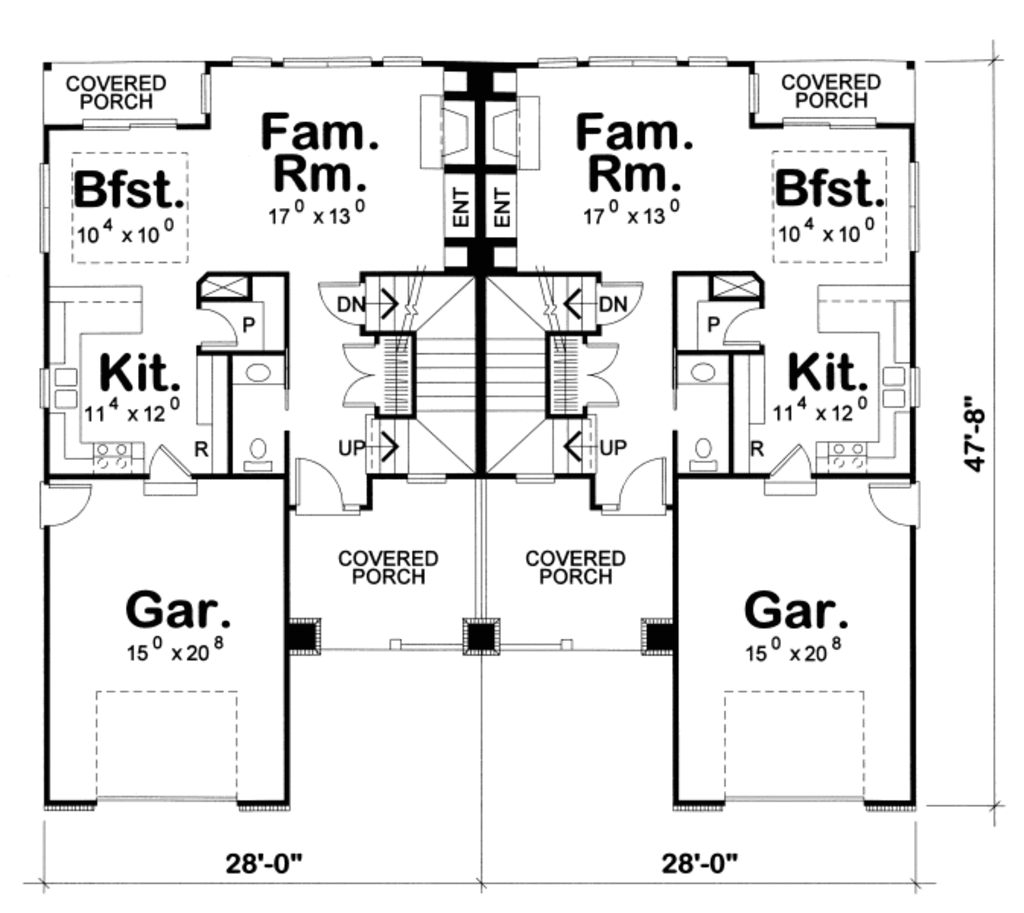door: (282, 454, 358, 522), (133, 440, 203, 501), (567, 332, 622, 409), (312, 262, 378, 326), (613, 452, 673, 519), (758, 438, 821, 501), (335, 335, 387, 409), (28, 475, 99, 528), (868, 467, 926, 530), (713, 296, 767, 348), (189, 302, 244, 350), (599, 280, 646, 327)
large_sink: (681, 423, 725, 477), (237, 426, 277, 474)
small_sink: (675, 350, 731, 389), (238, 350, 281, 387)
stairs: (364, 273, 487, 480), (482, 260, 597, 466)
twin_sink: (32, 358, 93, 422), (867, 355, 923, 416)
window: (33, 161, 57, 262), (276, 52, 373, 76), (583, 52, 678, 74), (904, 155, 923, 259), (214, 52, 283, 75), (526, 50, 579, 78), (379, 48, 426, 78), (689, 52, 727, 78)
